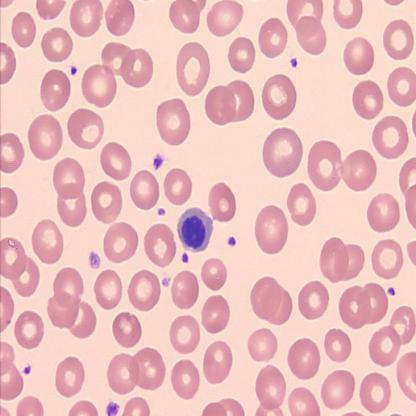NRC: (175, 204, 215, 254)
